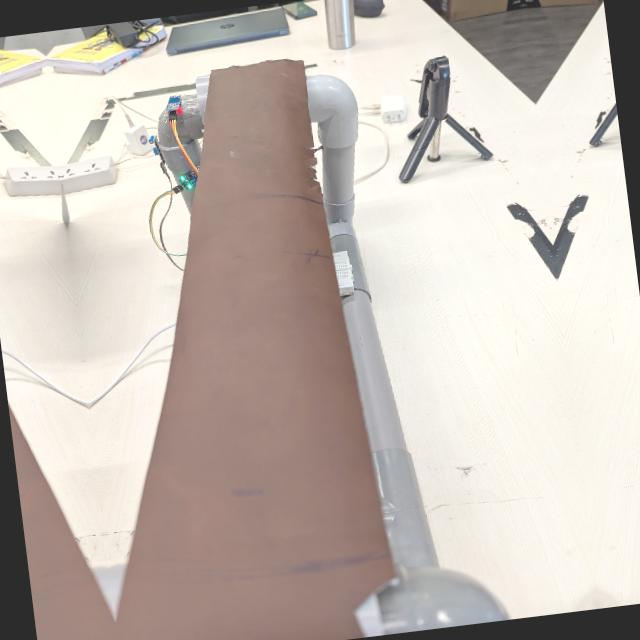edge_damage: (282, 124, 344, 212)
